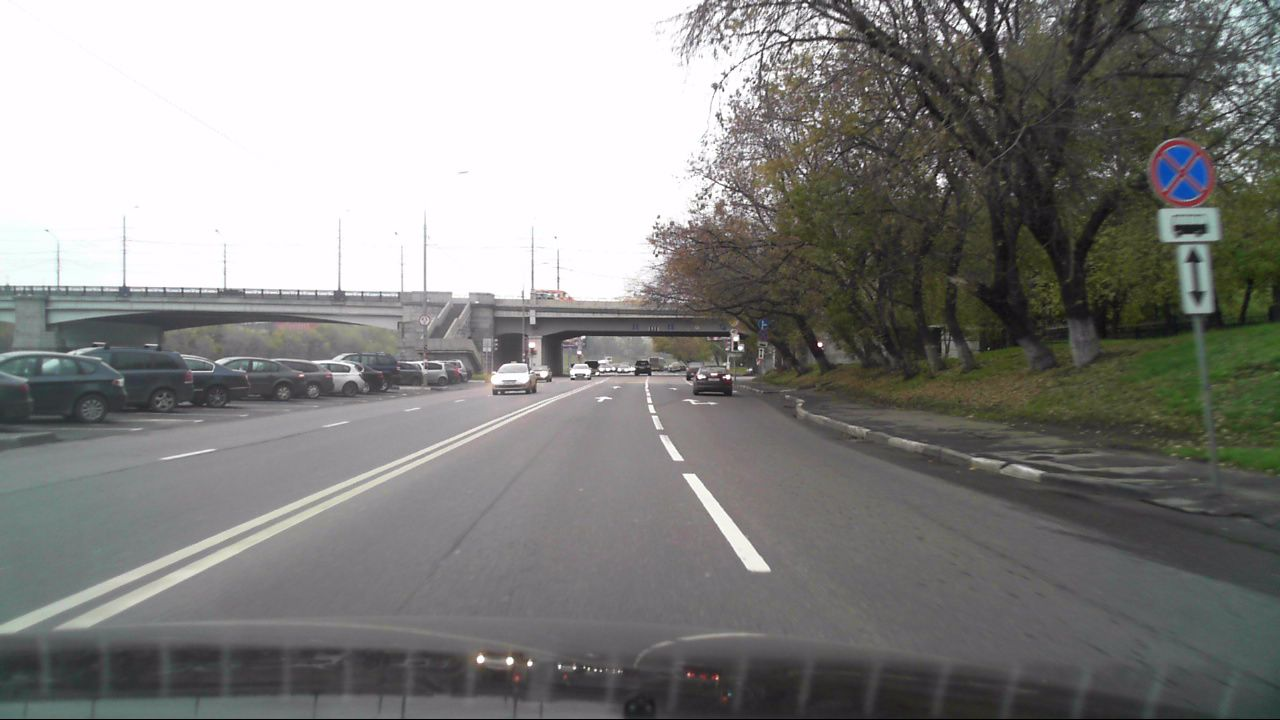No Parking: (1147, 133, 1212, 207)
